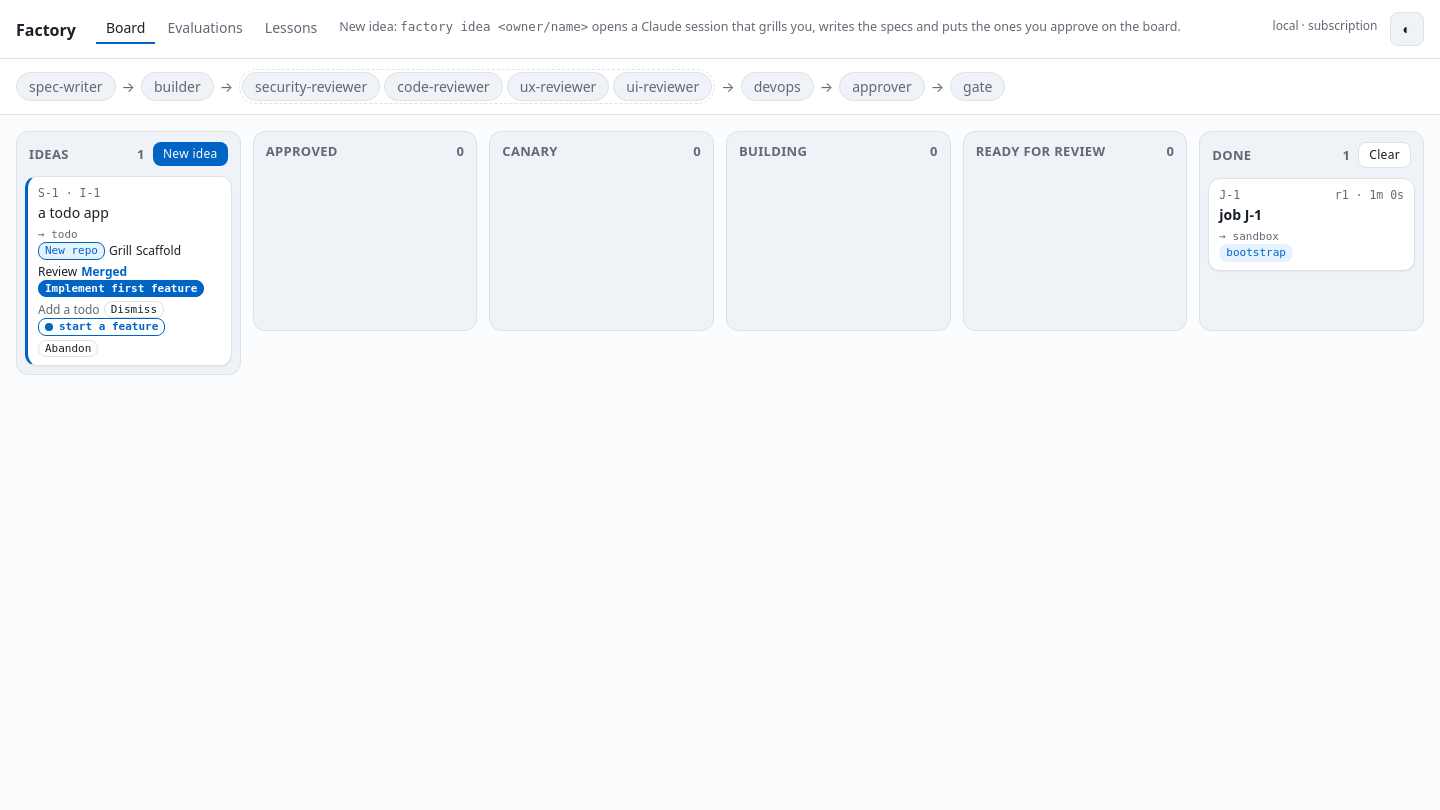
Test: the repo card › once merged offers Implement first feature, which opens the feature session
Expected: the text "Add a todo" is shown, [38,302,100,318]
Click the button "Implement first feature" at (121, 288), box [38,280,204,297]
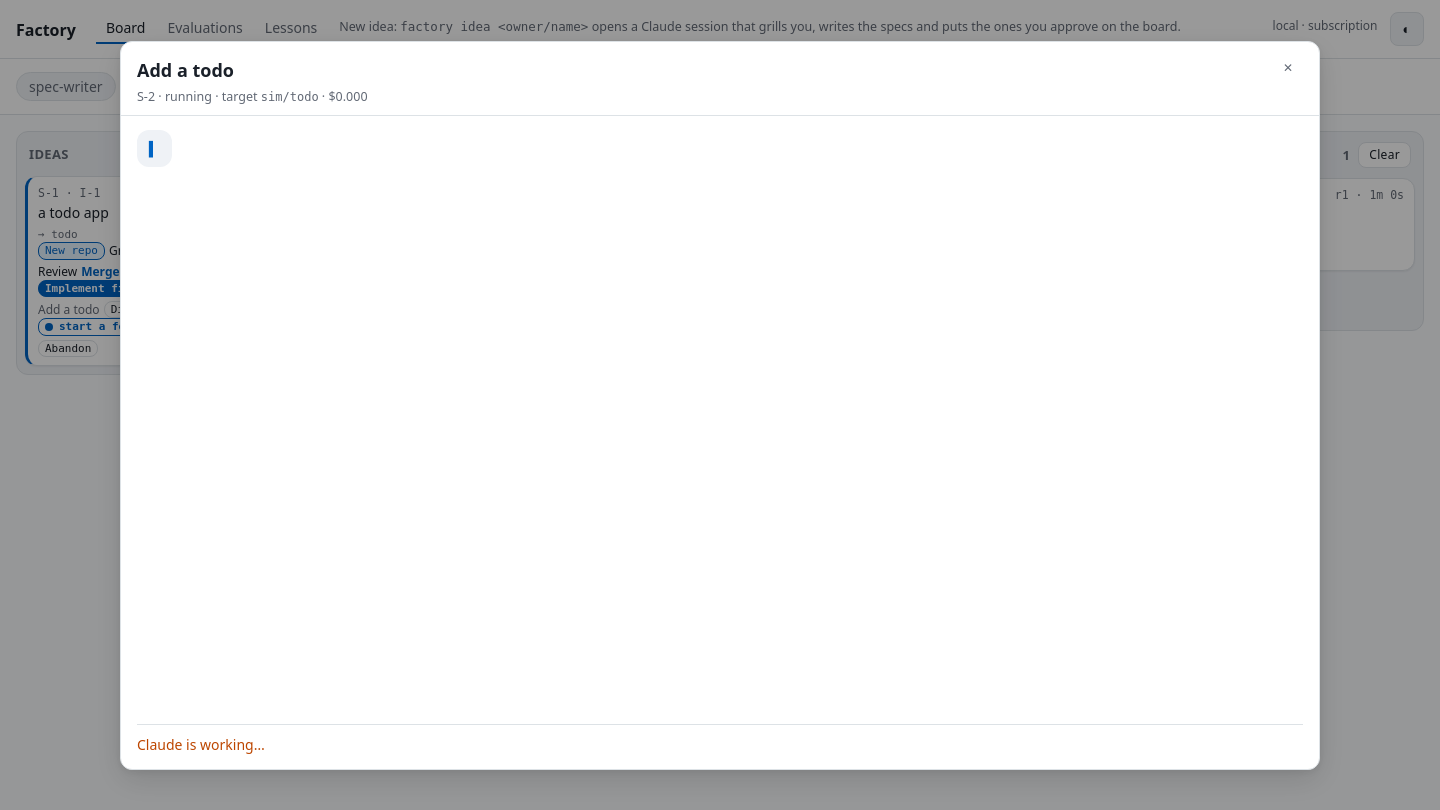
Expected: the dialog with id "modal" shows "S-2", [137,88,155,104]
